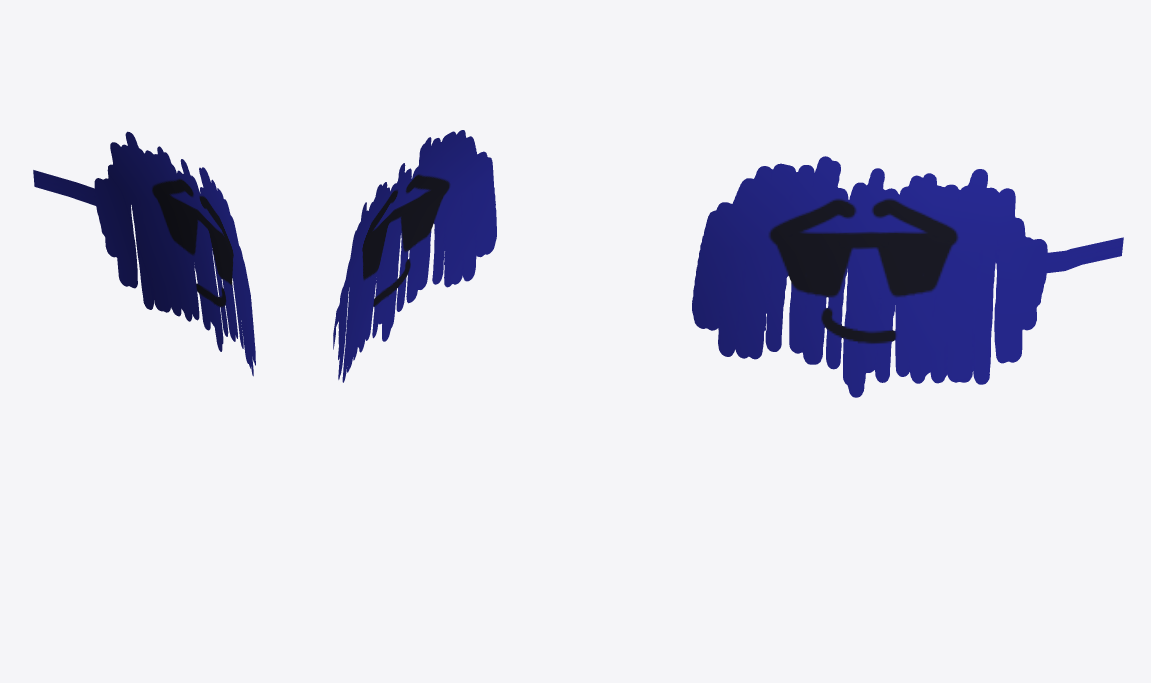
File: Smirk.fbx
3 views of the same model, side by side, from view 1: azimuth 30°, elevation 25°; view 2: azimuth 150°, elevation 25°; view 3: azimuth 270°, elevation 25° (orthographic). The views are drawn at different scales.
Parts seen in each view (by area): view 1: Smirk; view 2: Smirk; view 3: Smirk.
Part boxes in pixels (box(x1,y1,x2,y2)): Smirk: box(33, 131, 255, 376); Smirk: box(333, 130, 496, 382); Smirk: box(692, 156, 1123, 397).
Bounding box in the file's own units: 15 × 71.33 × 56.36.
